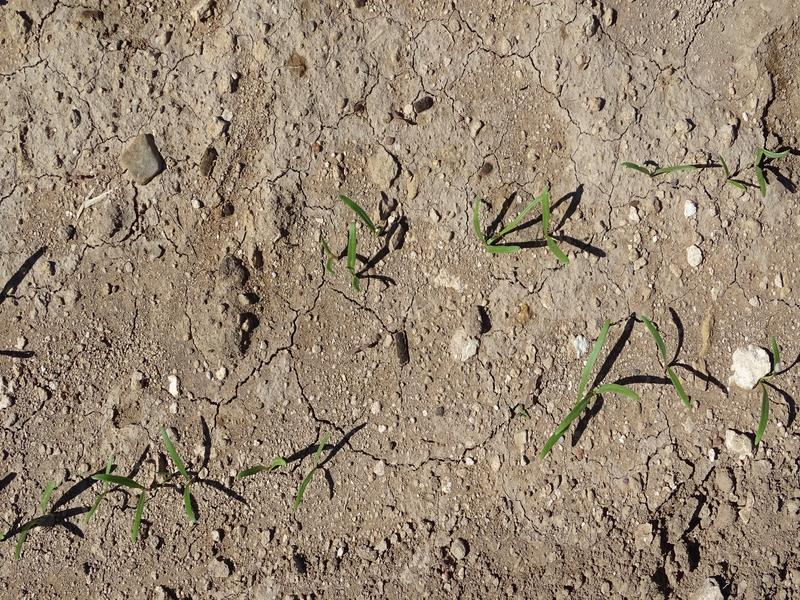Espinaca: (540, 315, 641, 447), (466, 185, 575, 263), (154, 422, 217, 525), (86, 458, 152, 541), (644, 310, 699, 408), (7, 471, 71, 544), (332, 199, 385, 284), (748, 344, 793, 442), (278, 438, 338, 504), (748, 144, 787, 196)
